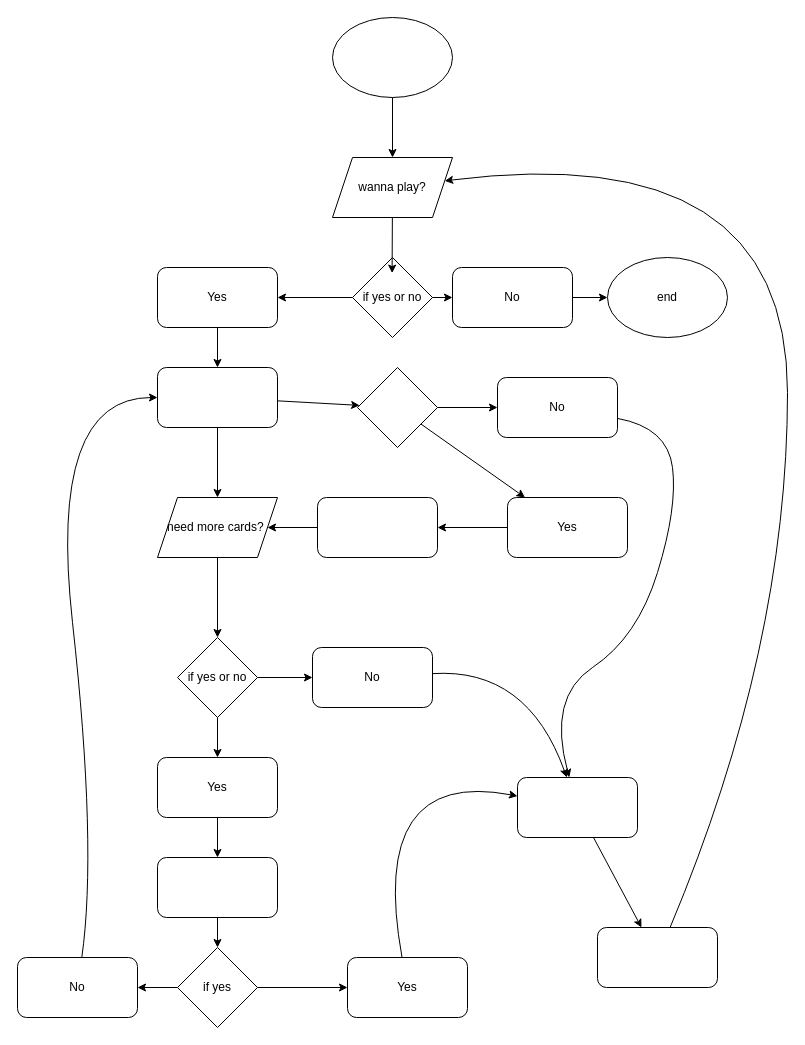
The diagram is 805 pixels wide and 1045 high, and some of its shapes have lost their labels. Each missing label, with the centre of its shape:
"check the sum if bigger than 21" goes at (x=217, y=887).
"Check the winner" goes at (x=577, y=807).
"give a random number for user and computer" goes at (x=217, y=397).
"give computer a card" goes at (x=377, y=527).
"Less than 17" goes at (x=397, y=407).
"Print the winner" goes at (x=657, y=957).
"start the game" goes at (x=392, y=57).
